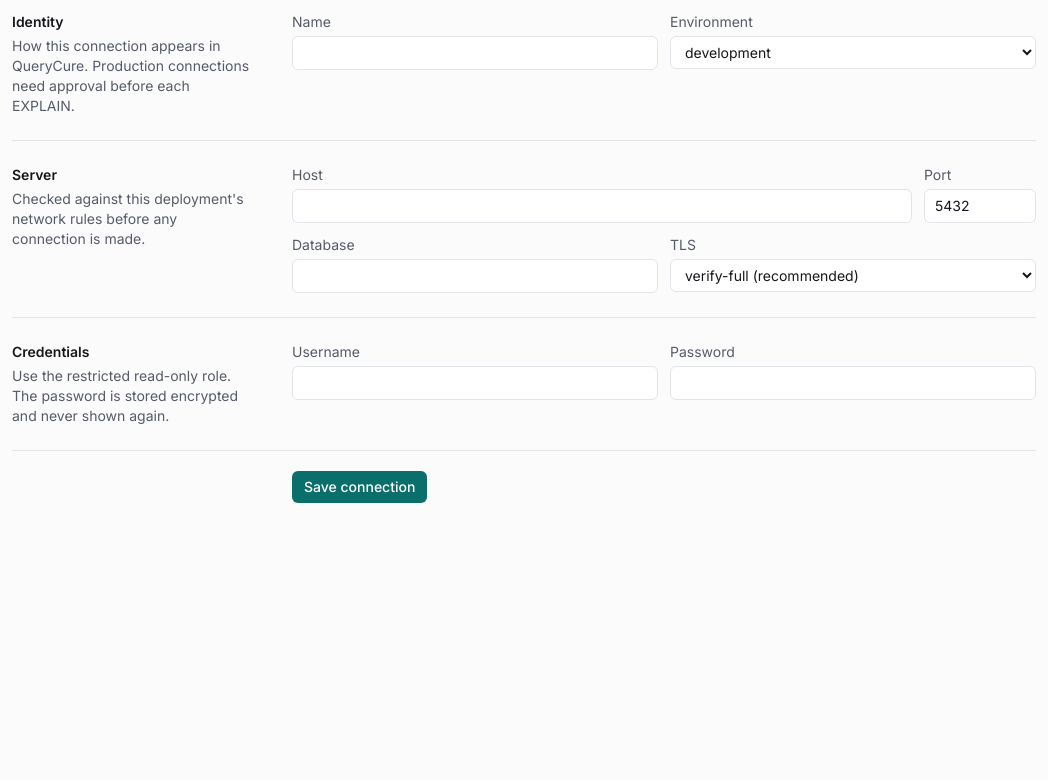
Test case: ConnectionForm › refuses to submit with required fields missing
Click the button "Save connection" at (360, 487), box [292,471,427,503]
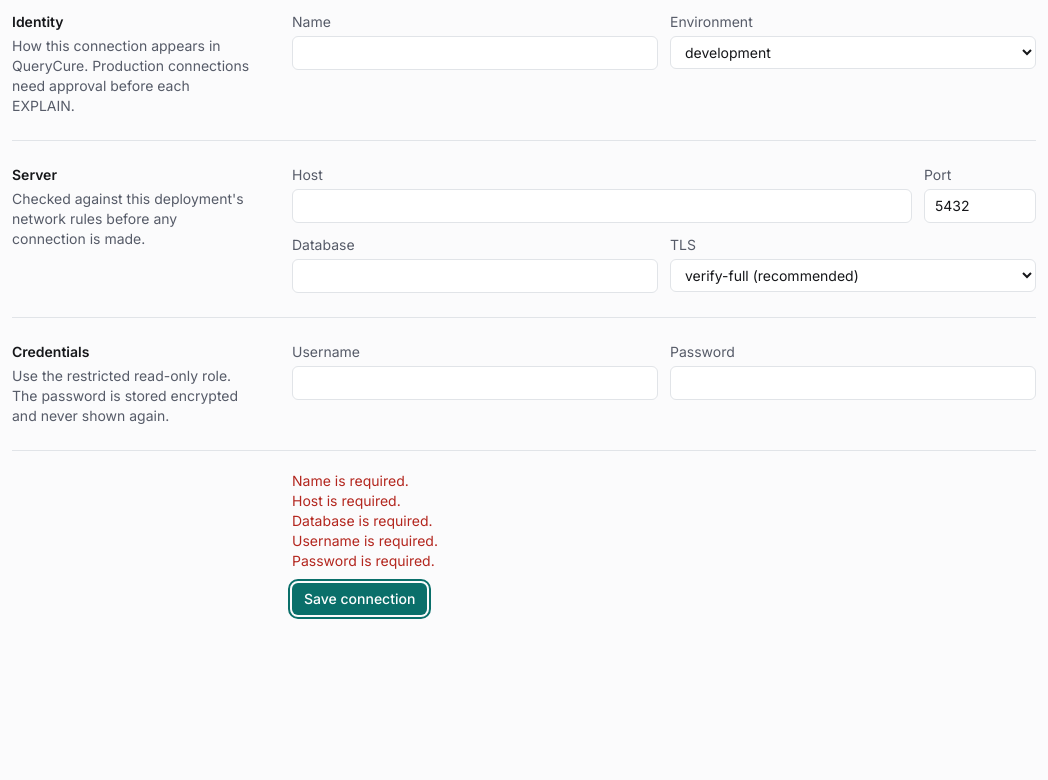
Expected: the list item "Name is required." is shown, [292,472,409,489]
